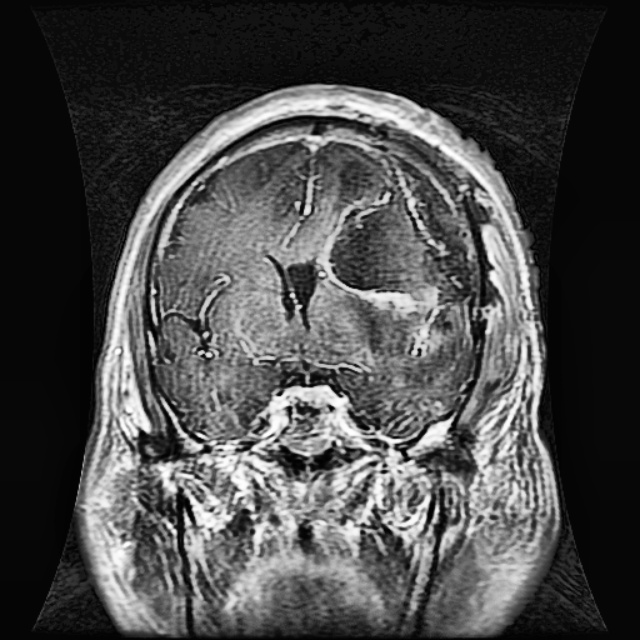Meningioma: (318, 159, 477, 359)
